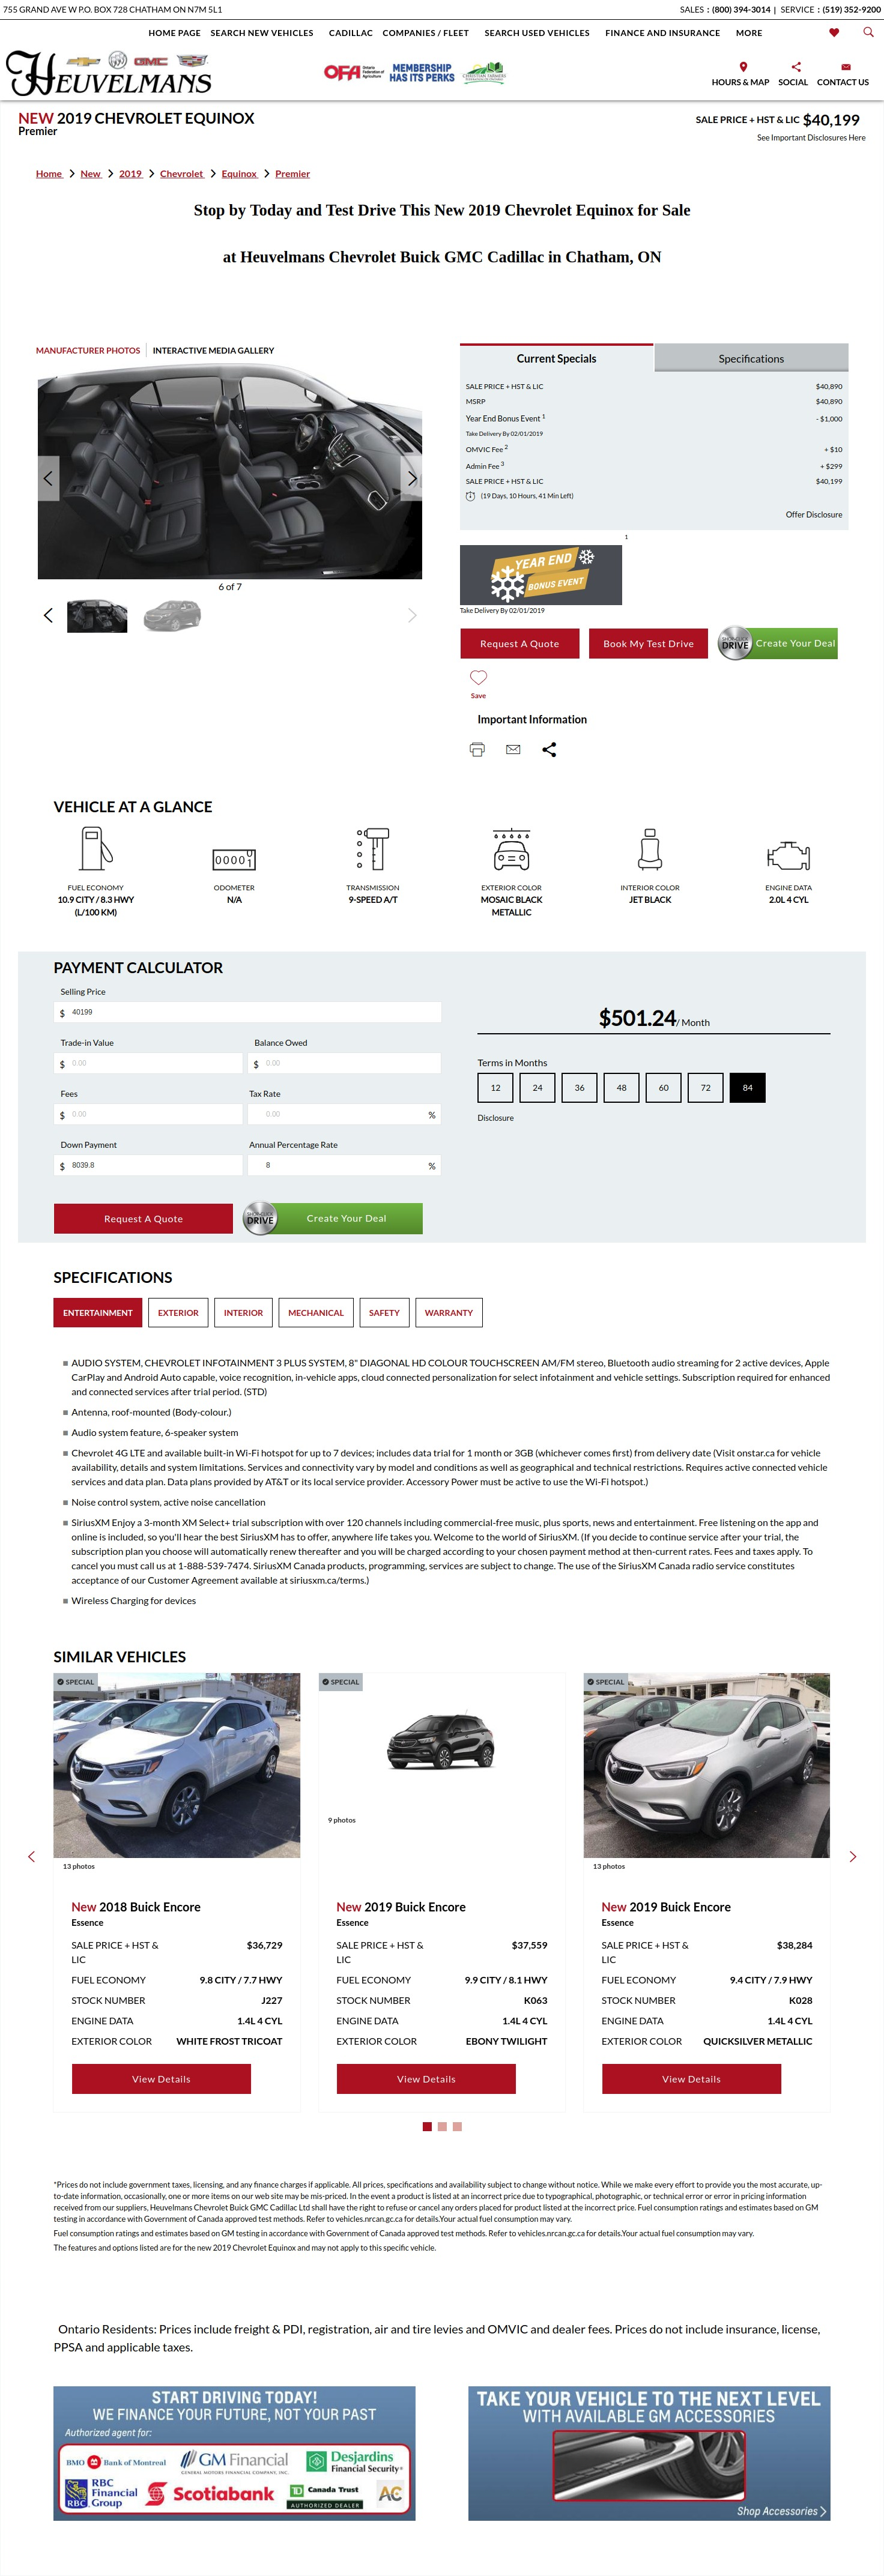car: (409, 471, 417, 486)
